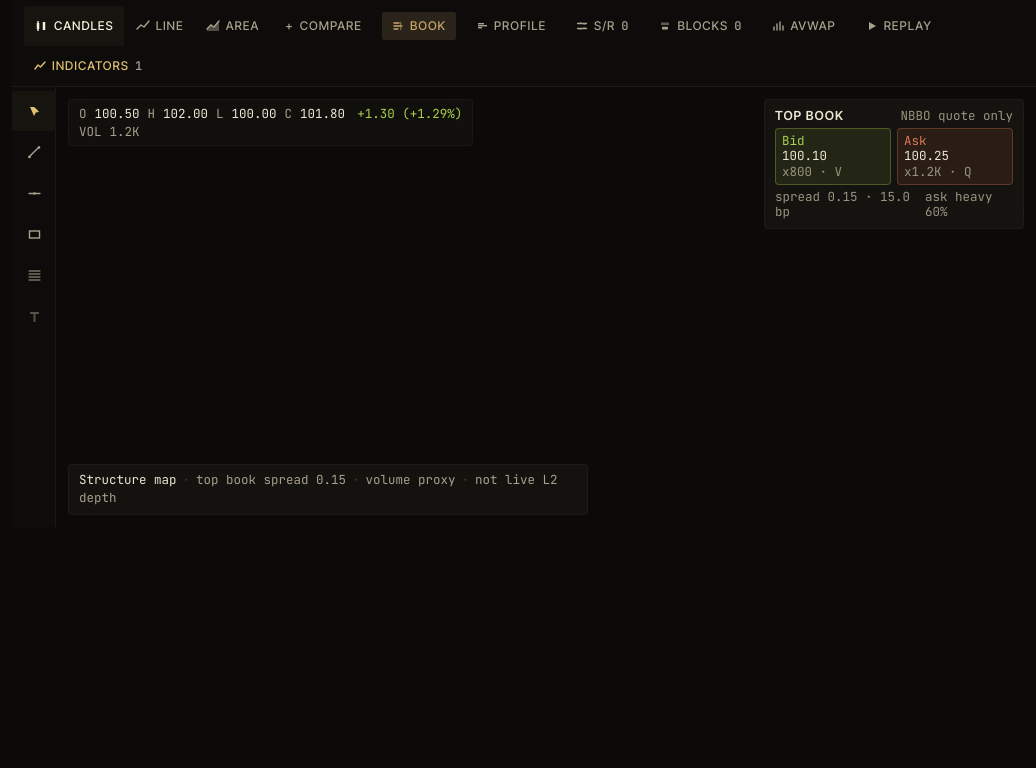
Test: ChartPane — drawing tools rail › renders a top-of-book layer without presenting it as full depth
The width and height of the screenshot is (1036, 768).
expect the text "Top book" is shown: met, box [775,108,844,124]
expect the text "NBBO quote only" is shown: met, box [900,108,1013,124]
Click the button "Book" at (419, 26), box [382,12,456,40]
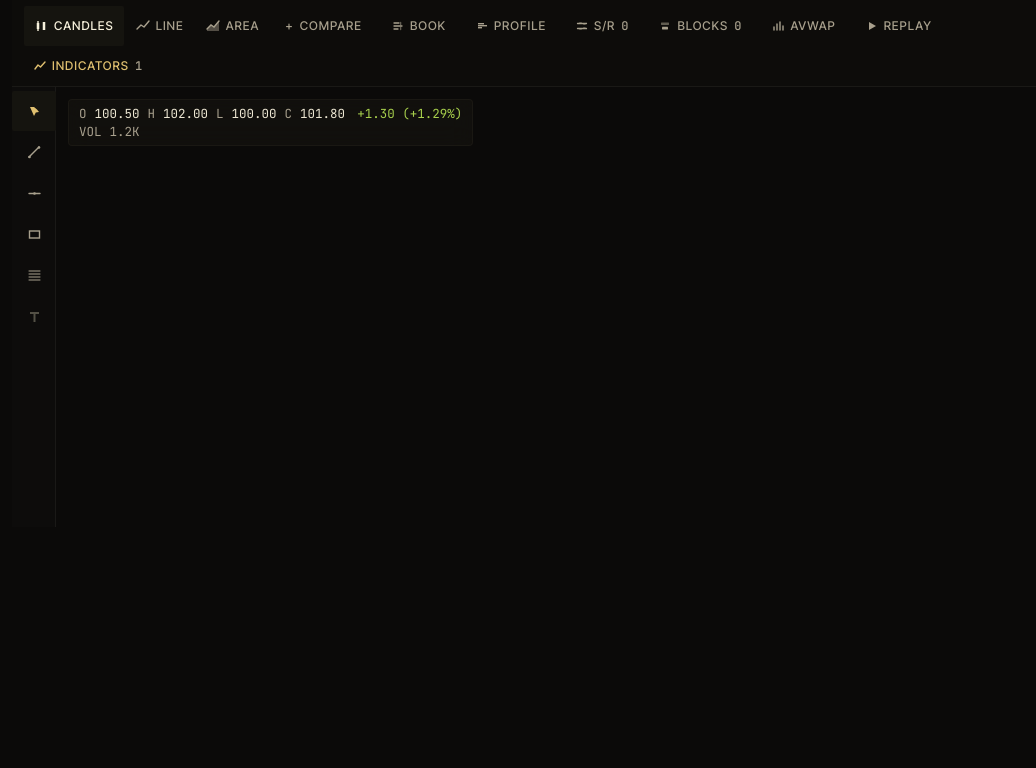
expect the text "NBBO quote only" is gone: met
